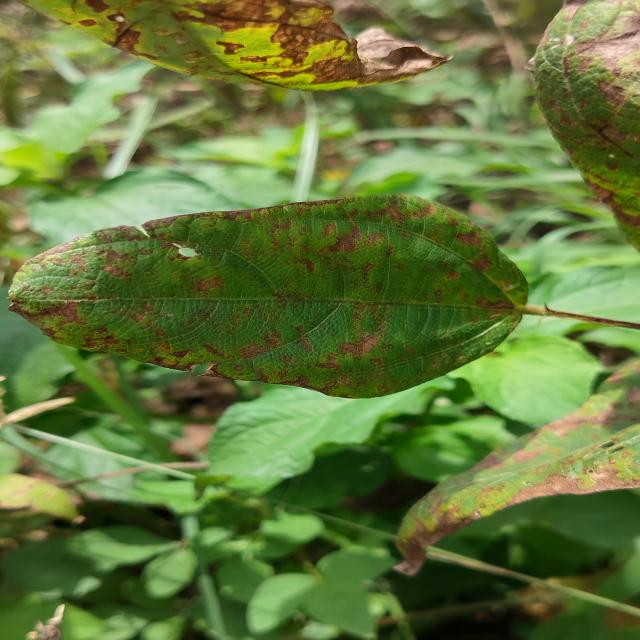Black gram_leaf spot: (1, 192, 528, 397), (9, 0, 458, 95), (514, 0, 640, 239)
